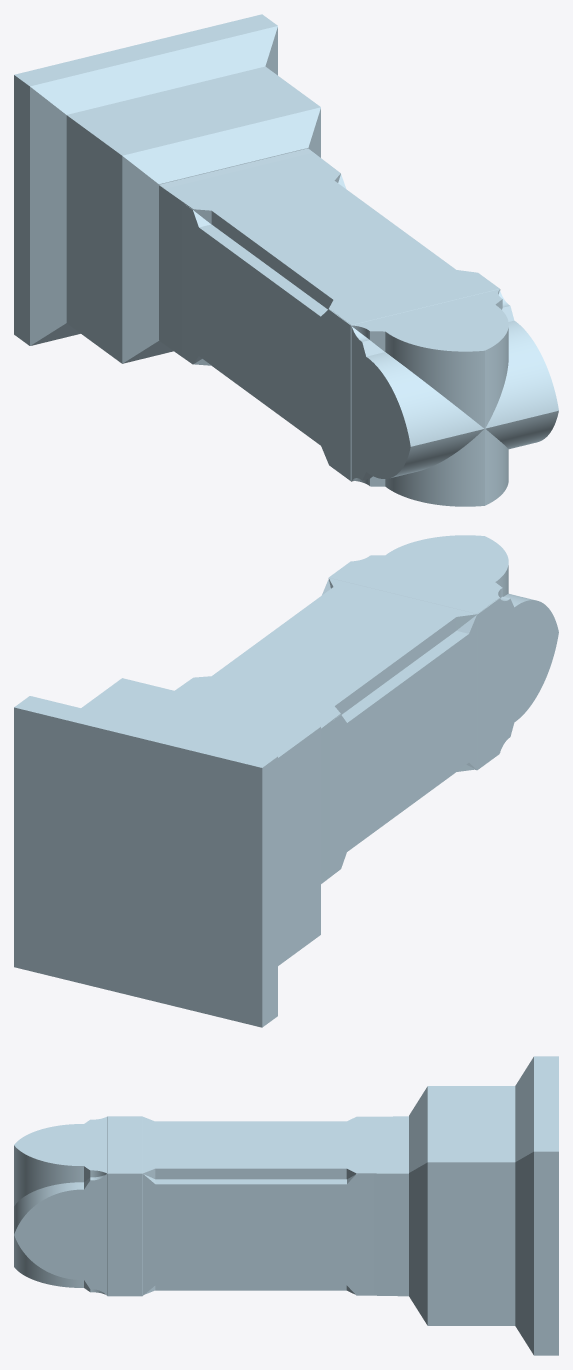
The picture shows the model from 3 angles, top to bottom: view 1: azimuth 30°, elevation 25°; view 2: azimuth 150°, elevation 25°; view 3: azimuth 270°, elevation 25°; orthographic projection. The views are drawn at different scales.
Parts seen in each view (by area): view 1: PA-79-F_LOD0; view 2: PA-79-F_LOD0; view 3: PA-79-F_LOD0.
Boxes of the visible parts, <box> form: PA-79-F_LOD0: <box>14,14,558,506</box>; PA-79-F_LOD0: <box>14,535,558,1027</box>; PA-79-F_LOD0: <box>14,1056,558,1355</box>.
Size of what is drawn, in the model's own units: 45.72 by 45.72 by 111.
